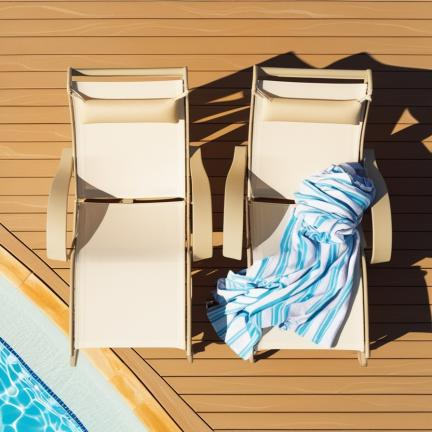empty chair: (46, 68, 212, 364)
occupied chair: (207, 66, 392, 366)
